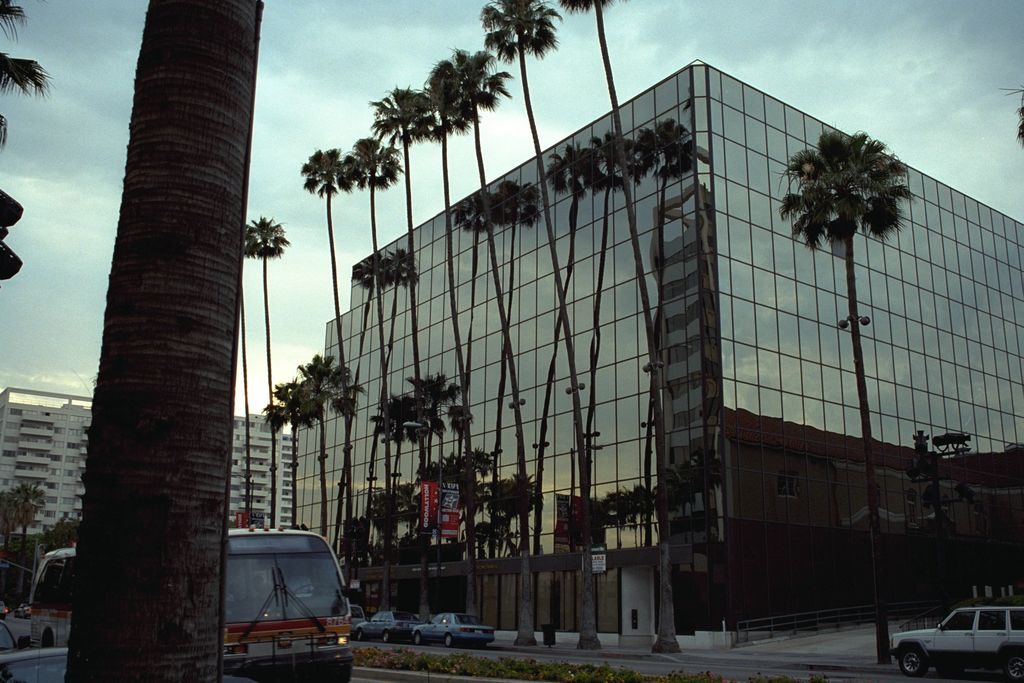mobil: (887, 604, 1024, 675), (415, 612, 495, 645)
